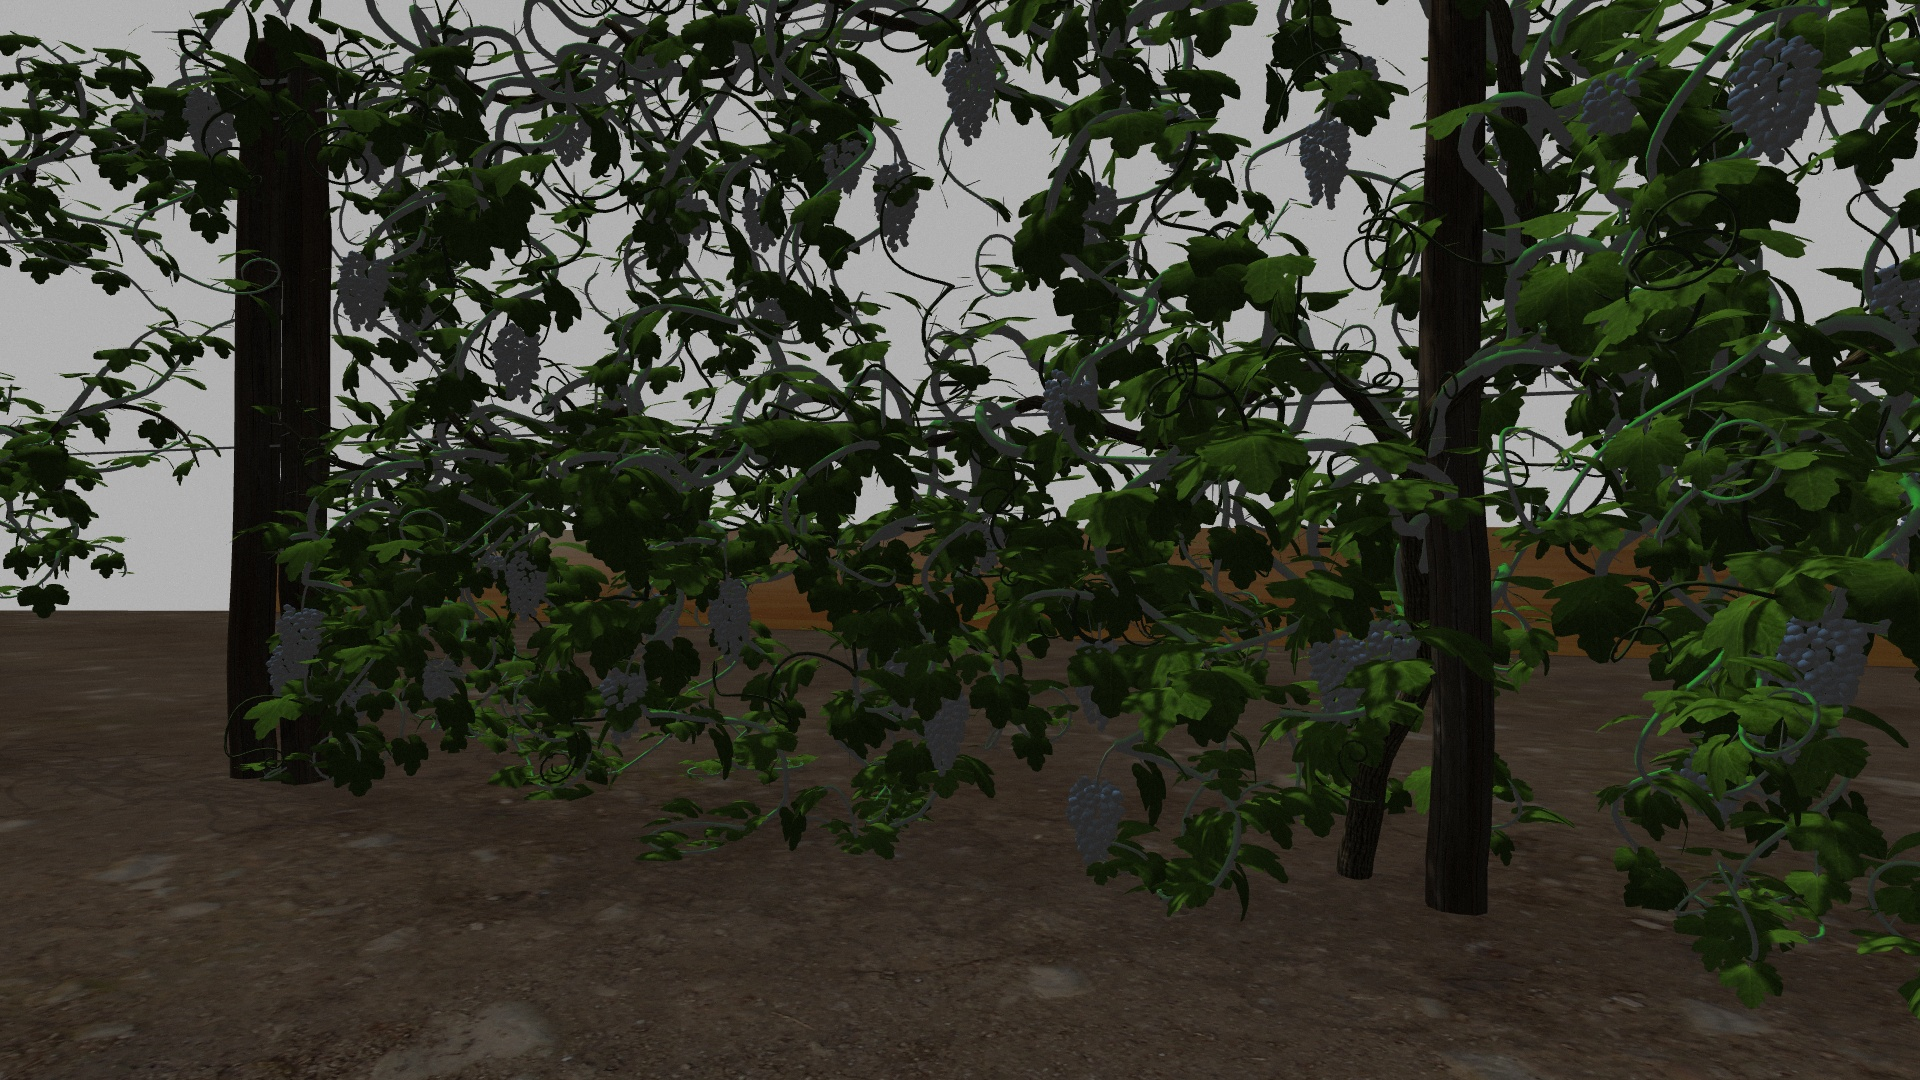grape: (1726, 32, 1824, 170), (1779, 593, 1873, 721), (942, 51, 1002, 145), (1065, 775, 1124, 866), (1298, 117, 1352, 208), (334, 251, 394, 331), (920, 690, 971, 779), (491, 319, 543, 402), (1582, 65, 1644, 135), (1312, 636, 1364, 717), (874, 164, 919, 255), (181, 88, 237, 158), (709, 576, 752, 659), (1043, 378, 1101, 436), (504, 550, 549, 621), (280, 604, 323, 665), (1366, 621, 1419, 669), (823, 138, 866, 195), (600, 663, 649, 713), (742, 187, 781, 251), (419, 655, 464, 702), (266, 650, 309, 695)
